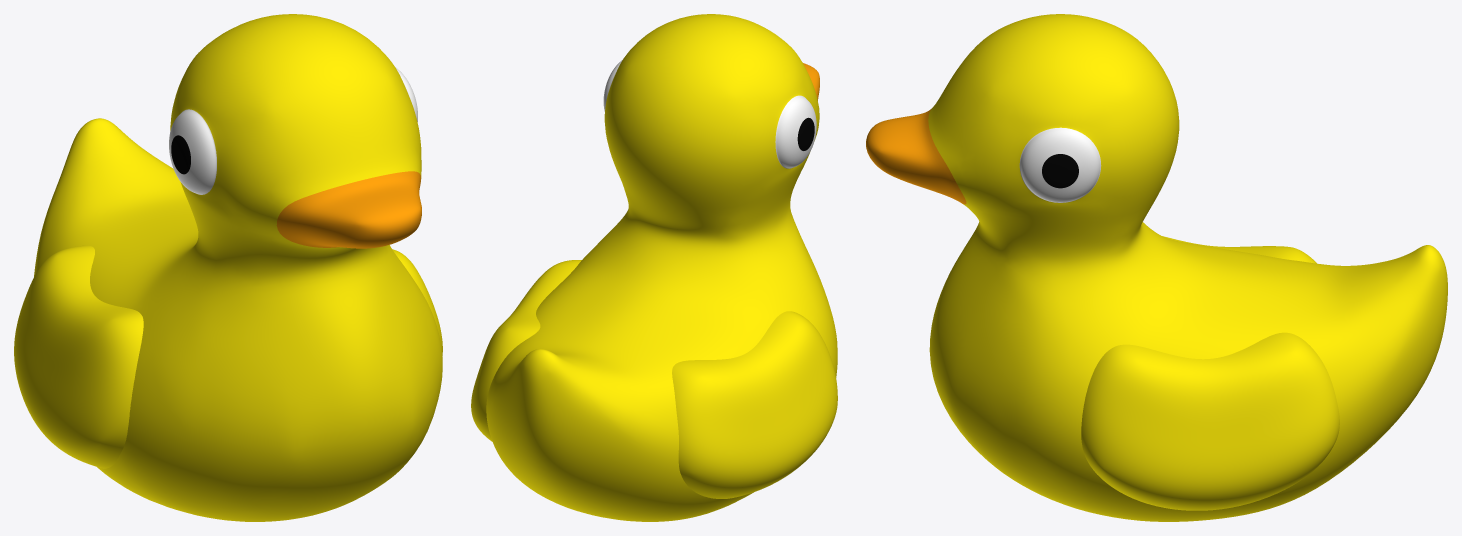
The model's file is duck.glb.
3 renders of one model, left to right at view 1: azimuth 30°, elevation 25°; view 2: azimuth 150°, elevation 25°; view 3: azimuth 270°, elevation 25°, orthographic. The views are drawn at different scales.
Parts seen in each view (by area): view 1: body, beak, eye, eyeB; view 2: body, eye, eyeB; view 3: body, beak, eye, eyeB.
Boxes of the visible parts, x1,y1,x2,y2 form: body: (14, 14, 442, 521); beak: (276, 171, 421, 248); eye: (169, 67, 417, 194); eyeB: (171, 135, 190, 174); body: (471, 14, 837, 521); eye: (603, 60, 816, 168); eyeB: (797, 117, 814, 150); body: (928, 14, 1447, 521); beak: (866, 108, 966, 204); eye: (1019, 127, 1101, 202); eyeB: (1042, 154, 1078, 188).
Size of the model in its own units: 0.4447 by 0.5925 by 0.6634.
